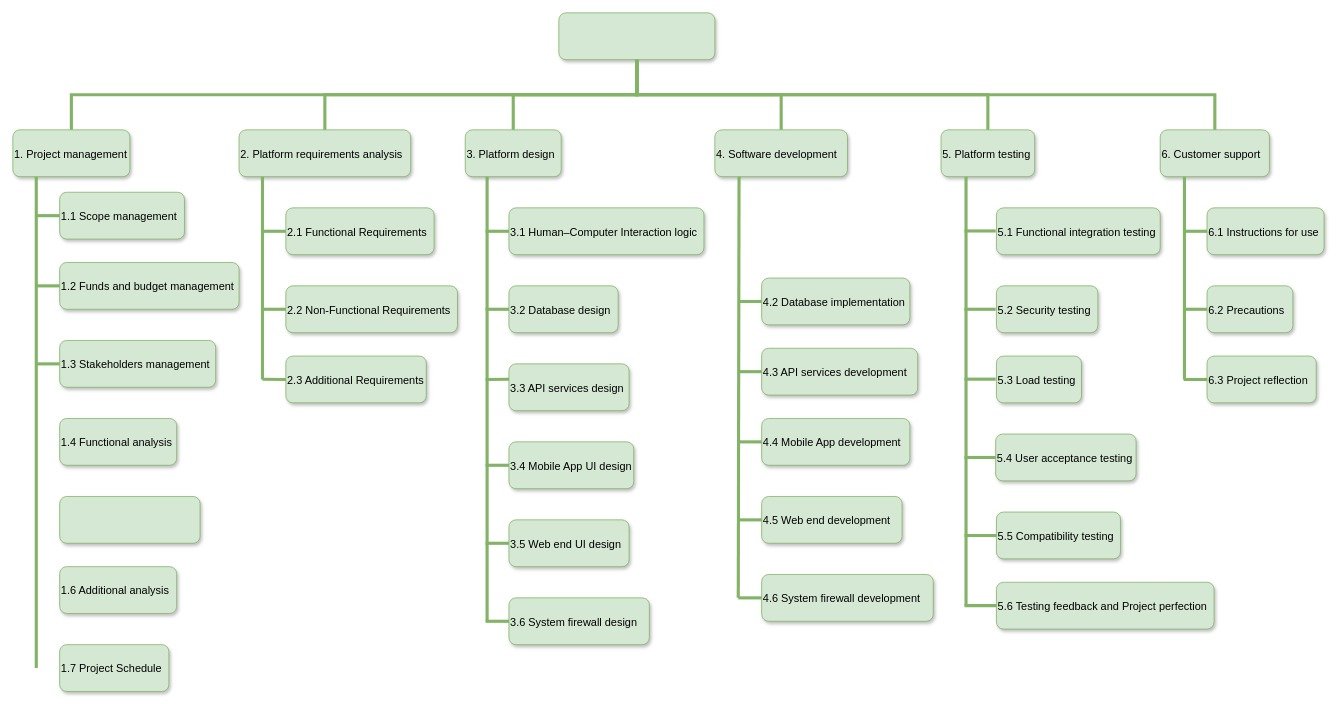
Some shapes in this 1337 by 704 pixel diagram are drawn without their labels. The centre of each missing label's shape, as x and y in pixels:
"1.5 Non-Functional analysis" belongs at (130,521).
"UNSW Student Network" belongs at (637,37).
